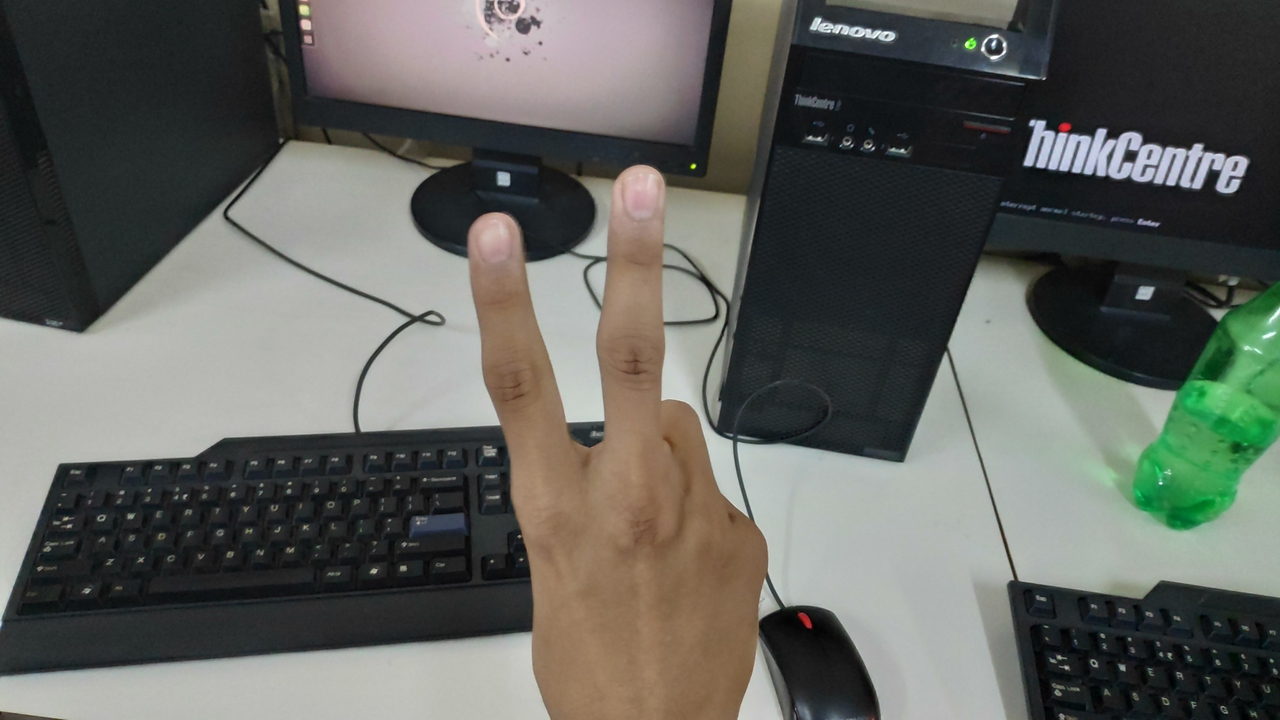fingertip: (460, 206, 526, 272), (604, 158, 668, 224)
